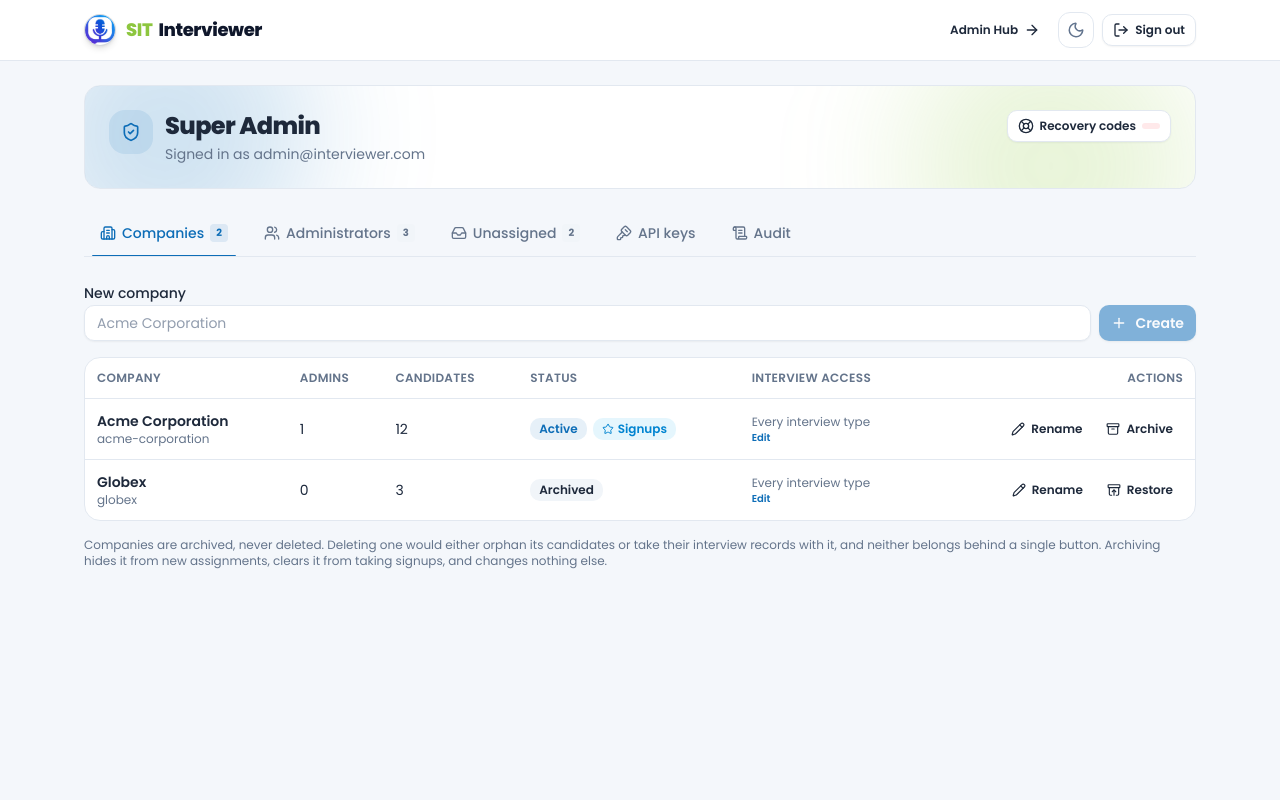
Test case: SuperAdminPortal › lists unassigned candidates with an explanation of why nobody else sees them
The image size is (1280, 800).
Expected: the text "Acme Corporation" is shown, x1=97 y1=410 x2=228 y2=430
Click the button "Unassigned 2" at (515, 234), box x1=435 y1=213 x2=596 y2=256
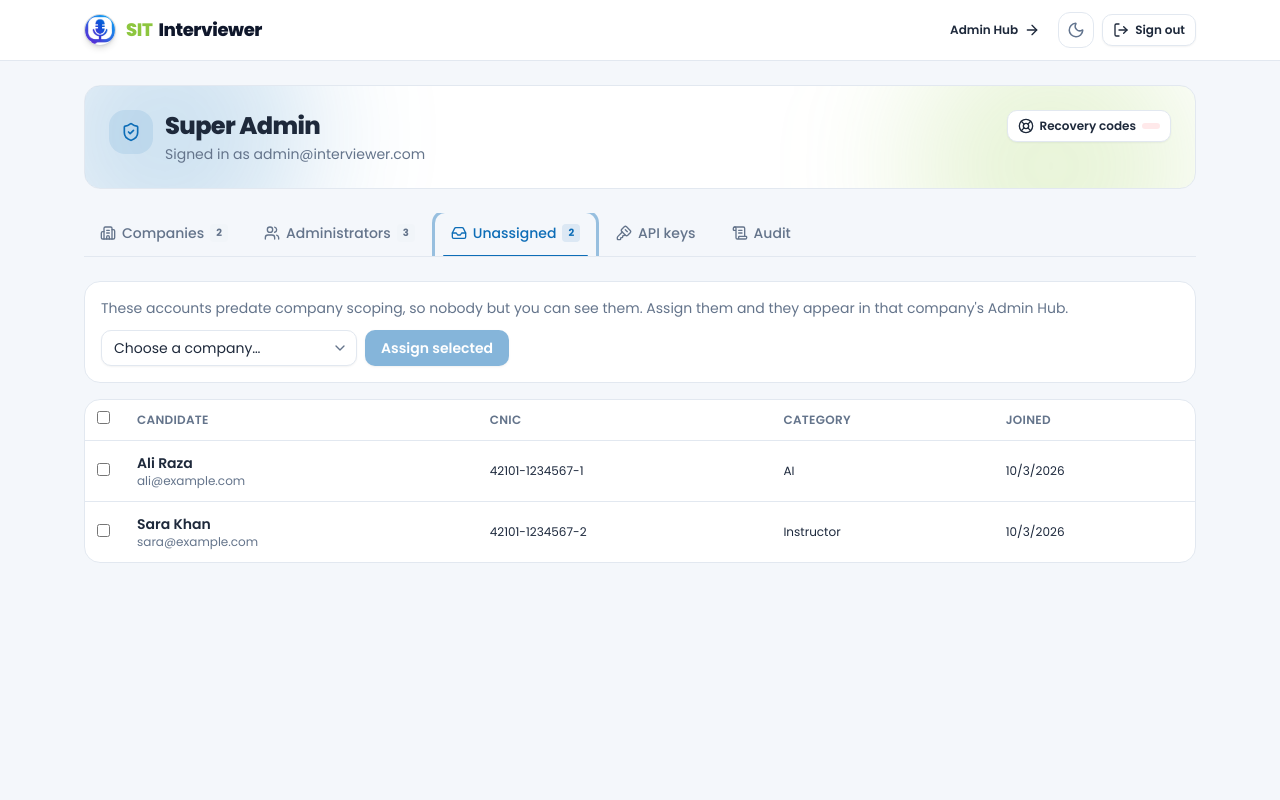
Result: the text "Ali Raza" is shown at x1=137 y1=452 x2=193 y2=472
Result: the text "nobody but you can see them" is shown at x1=101 y1=298 x2=1068 y2=318
